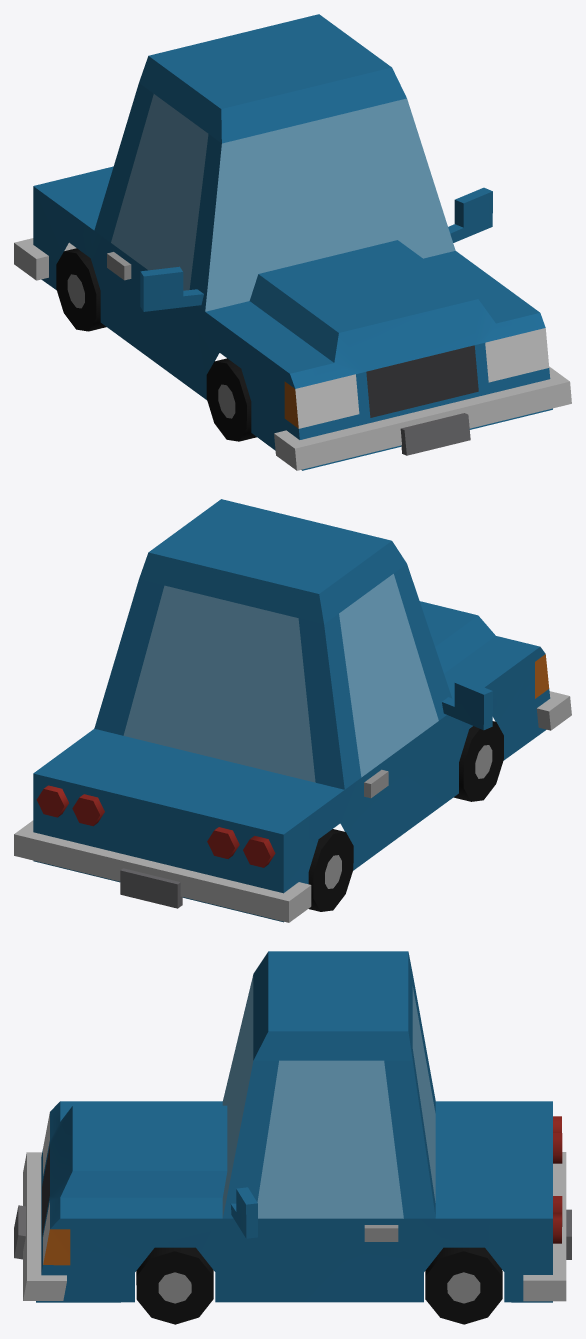
File: Car_02_blue.fbx
3 renders of one model, top to bottom at view 1: azimuth 30°, elevation 25°; view 2: azimuth 150°, elevation 25°; view 3: azimuth 270°, elevation 25°, orthographic. The views are drawn at different scales.
Visible parts, largest first — view 1: Car_02_blue; view 2: Car_02_blue; view 3: Car_02_blue.
Boxes of the visible parts, x1=… form: Car_02_blue: x1=14, y1=14, x2=571, y2=470; Car_02_blue: x1=14, y1=499, x2=571, y2=922; Car_02_blue: x1=14, y1=951, x2=571, y2=1324.
Size of the model in its own units: 60.1 by 46.79 by 86.64.
